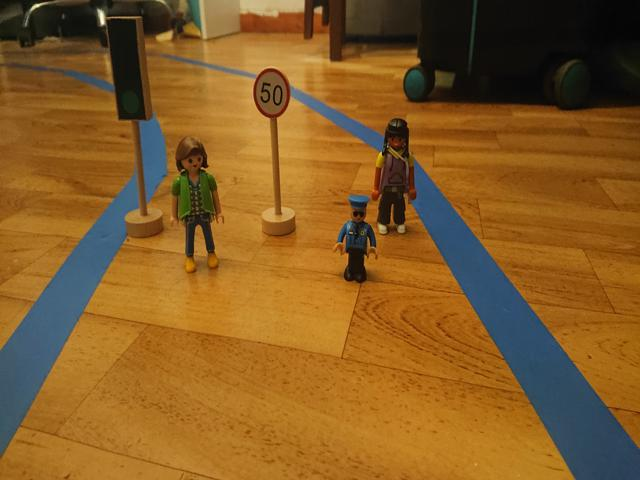50 speed sign: (249, 69, 293, 122)
green light: (109, 25, 144, 119)
person: (171, 135, 223, 274), (371, 115, 416, 237), (328, 192, 381, 284)
